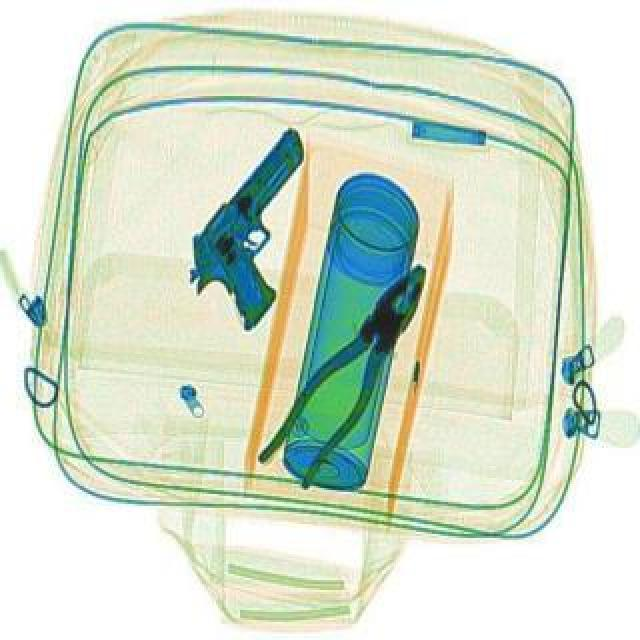gun: (162, 122, 370, 330)
wrench: (252, 248, 450, 492)
